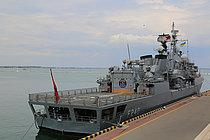MIL_Ship: (33, 20, 207, 120)
